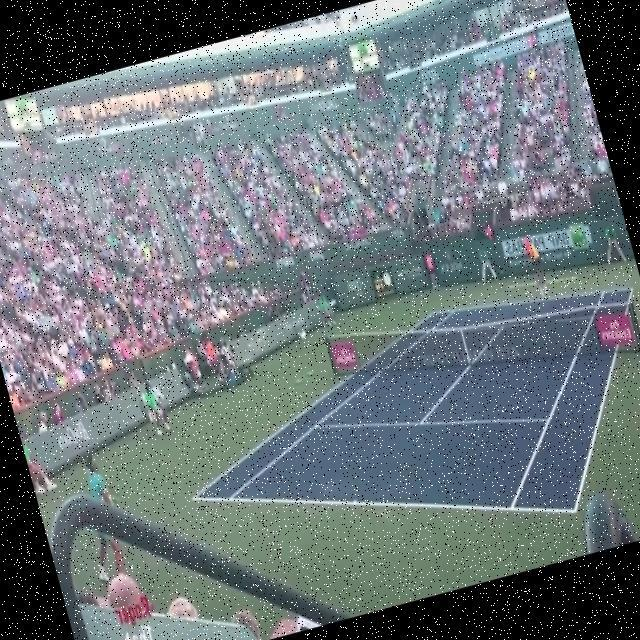court: (160, 259, 640, 607)
net: (320, 252, 640, 436)
player: (66, 448, 140, 586)
